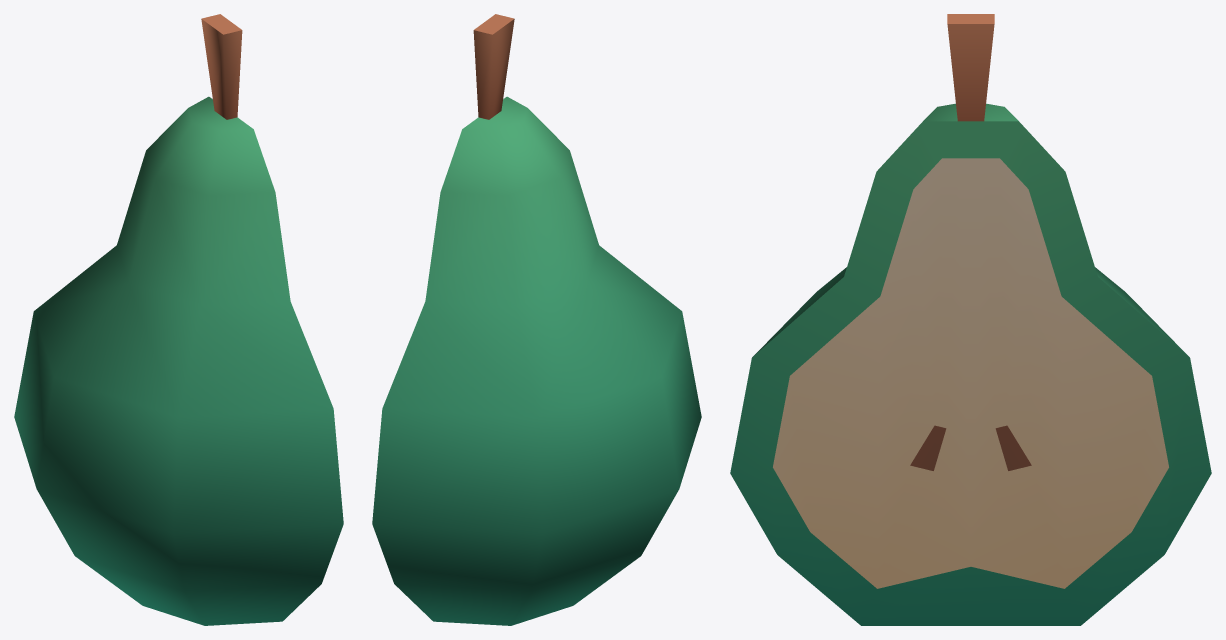
Rendered from pear-half.glb.
3 renders of one model, left to right at view 1: azimuth 30°, elevation 25°; view 2: azimuth 150°, elevation 25°; view 3: azimuth 270°, elevation 25°, orthographic. The views are drawn at different scales.
Visible parts, largest first — view 1: pear-half; view 2: pear-half; view 3: pear-half.
Boxes of the visible parts, x1=… form: pear-half: x1=14, y1=14, x2=343, y2=625; pear-half: x1=372, y1=14, x2=701, y2=625; pear-half: x1=730, y1=14, x2=1211, y2=625.
Size of the model in its own units: 0.0981 by 0.2708 by 0.1963.
